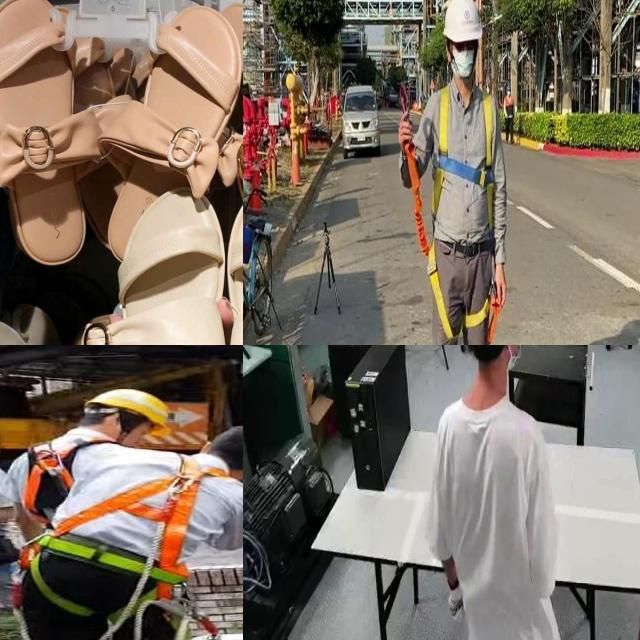Harness: (20, 452, 236, 621), (404, 143, 502, 345), (11, 436, 108, 545), (435, 86, 496, 240)
Sandals: (0, 0, 243, 272), (71, 179, 243, 345)
person: (428, 345, 569, 640)
